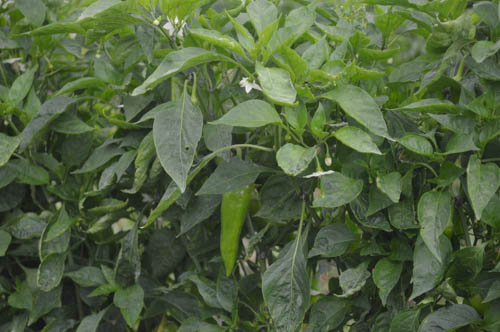ChiliPepper: (218, 177, 252, 284)
